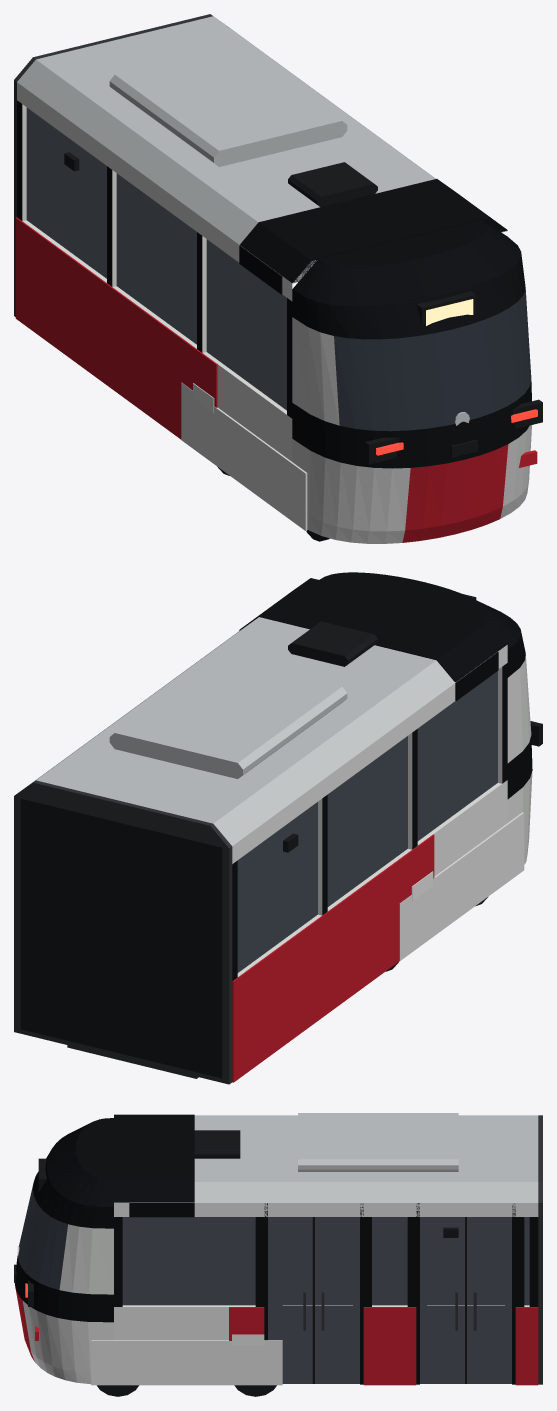
3 renders of one model, top to bottom at view 1: azimuth 30°, elevation 25°; view 2: azimuth 150°, elevation 25°; view 3: azimuth 270°, elevation 25°, orthographic. The views are drawn at different scales.
Visible parts, largest first — view 1: 52t-e; view 2: 52t-e; view 3: 52t-e.
Part boxes in pixels (box(x1,y1,x2,y2)): 52t-e: box(14, 14, 542, 543); 52t-e: box(14, 572, 542, 1084); 52t-e: box(14, 1113, 542, 1396).
Bounding box in the file's own units: 2.6 × 3.3 × 6.91.
